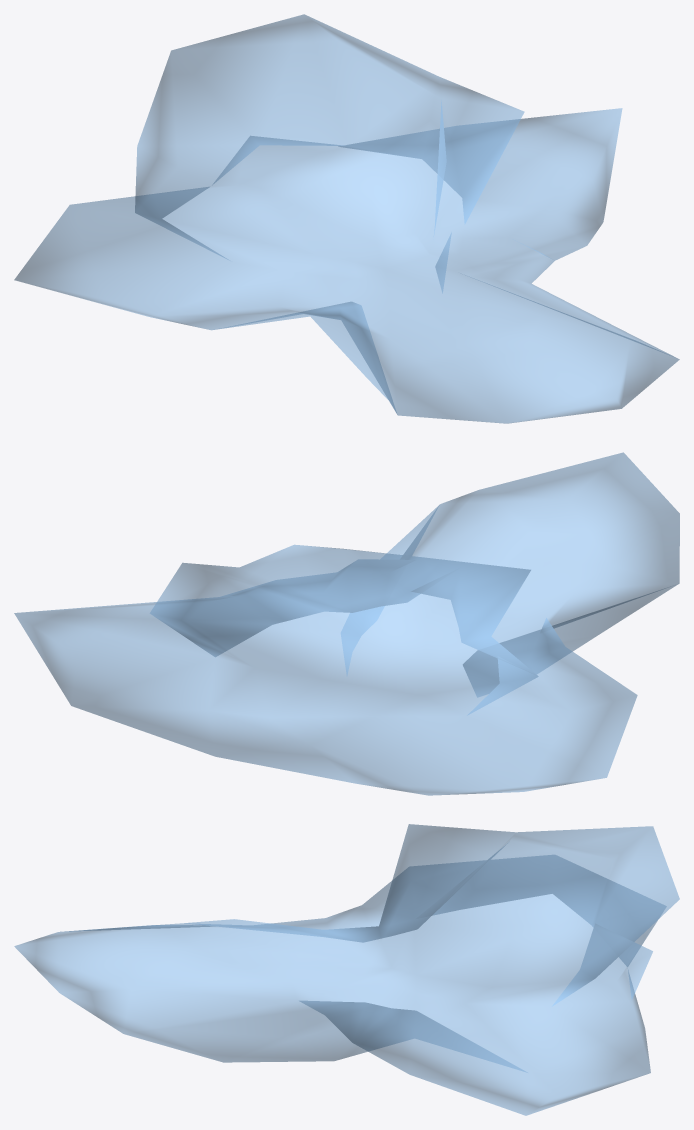
The model's file is sssupermonolith_shield.gltf.
The picture shows the model from 3 angles, top to bottom: view 1: azimuth 30°, elevation 25°; view 2: azimuth 150°, elevation 25°; view 3: azimuth 270°, elevation 25°; orthographic projection. The views are drawn at different scales.
Parts seen in each view (by area): view 1: sssupermonolith.shield; view 2: sssupermonolith.shield; view 3: sssupermonolith.shield.
Part boxes in pixels (x1,y1,x2,y2): sssupermonolith.shield: (14,14,679,423); sssupermonolith.shield: (14,452,679,795); sssupermonolith.shield: (14,824,679,1115).
Size of the model in its own units: 47.84 by 16.03 by 51.75.
